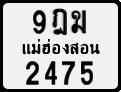letters: (51, 8, 68, 36), (70, 9, 87, 35), (60, 60, 76, 86), (25, 60, 40, 87), (79, 59, 94, 86), (32, 9, 47, 35), (43, 60, 58, 86)
province: (21, 37, 101, 56)
